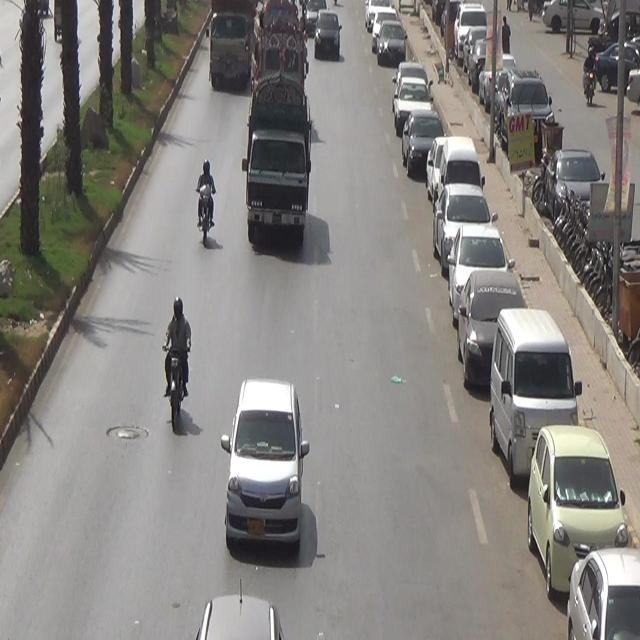car: (221, 371, 305, 557), (313, 0, 336, 69)
motorbike: (158, 295, 191, 439), (196, 153, 216, 248)
truck: (242, 68, 314, 248), (205, 0, 255, 97)
